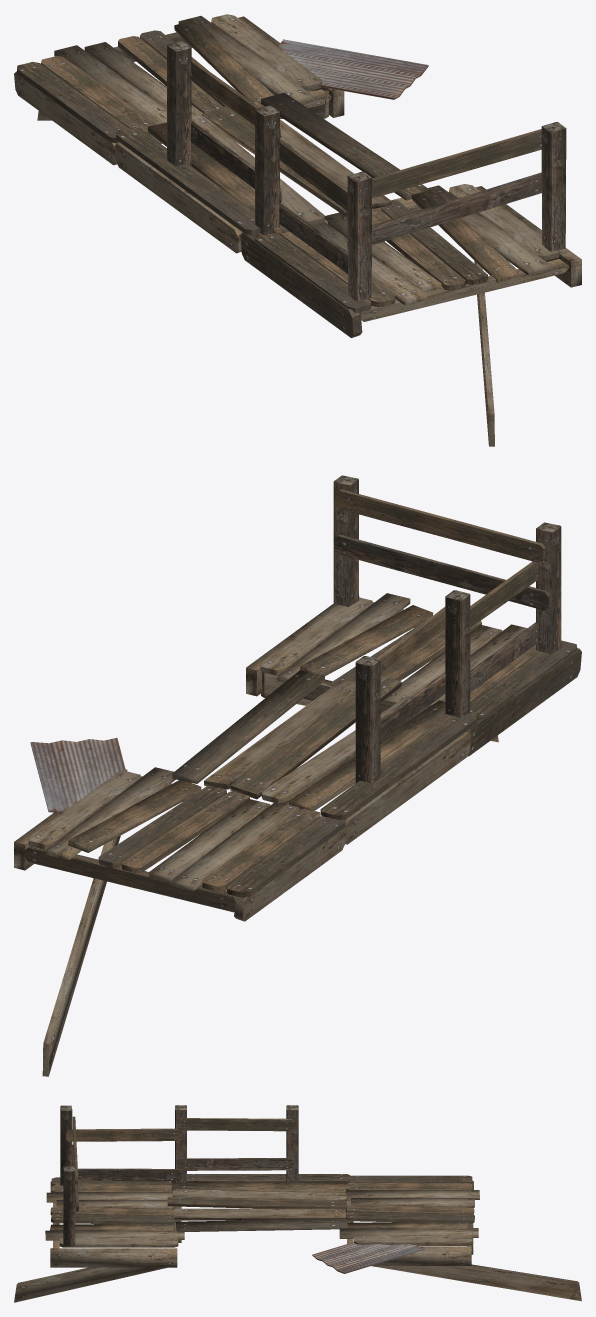
Rendered from lvl2platformc.glb.
3 renders of one model, top to bottom at view 1: azimuth 30°, elevation 25°; view 2: azimuth 150°, elevation 25°; view 3: azimuth 270°, elevation 25°, orthographic. The views are drawn at different scales.
Parts seen in each view (by area): view 1: Lvl2PlatformC_LOD0; view 2: Lvl2PlatformC_LOD0; view 3: Lvl2PlatformC_LOD0.
Part boxes in pixels (x1,y1,x2,y2): Lvl2PlatformC_LOD0: (14,14,581,446); Lvl2PlatformC_LOD0: (14,475,581,1076); Lvl2PlatformC_LOD0: (14,1105,581,1302).
Bounding box in the file's own units: 3.51 × 2.8 × 8.7.
Materials: 2 (2 with a texture image).
